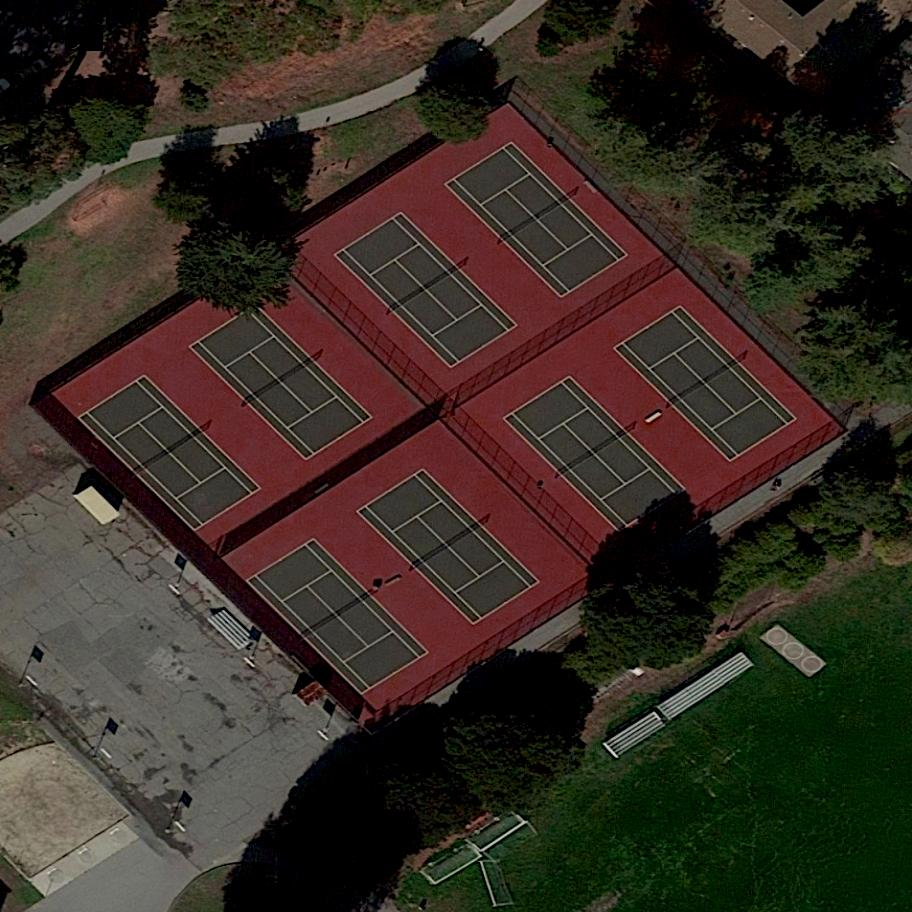small-vehicle: (66, 26, 103, 56)
